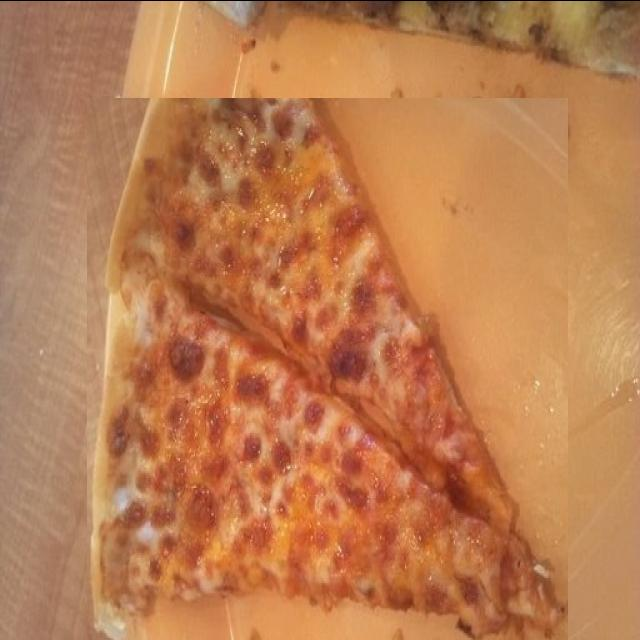pizza: (87, 97, 568, 640)
